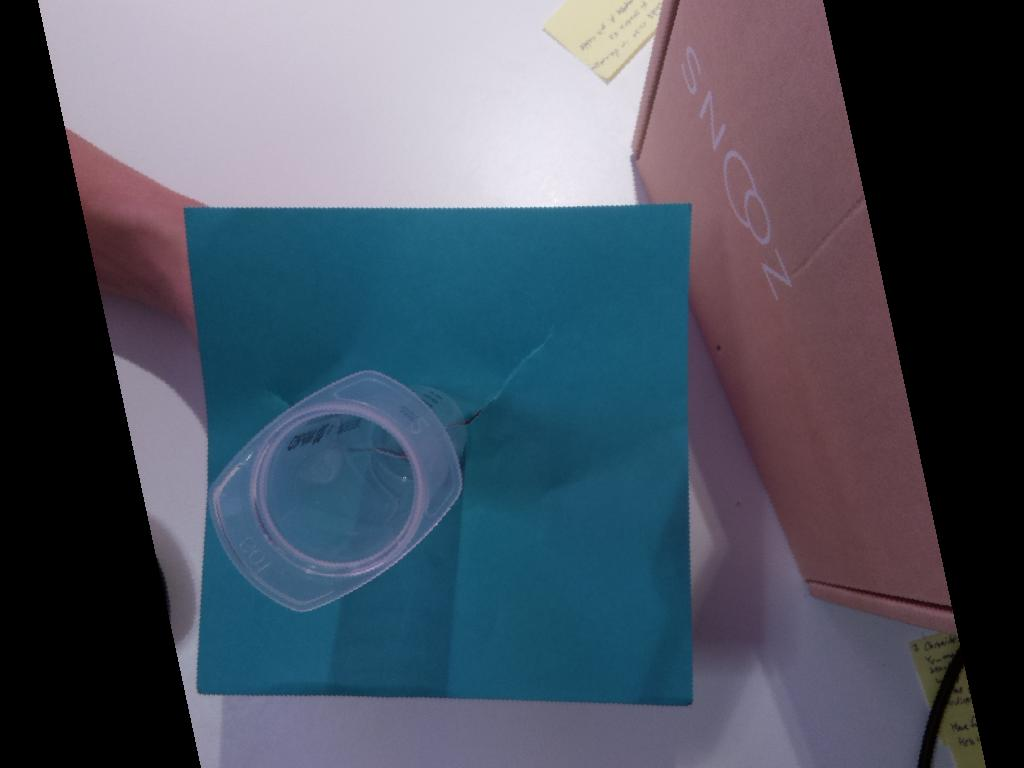clean: (209, 368, 464, 615)
